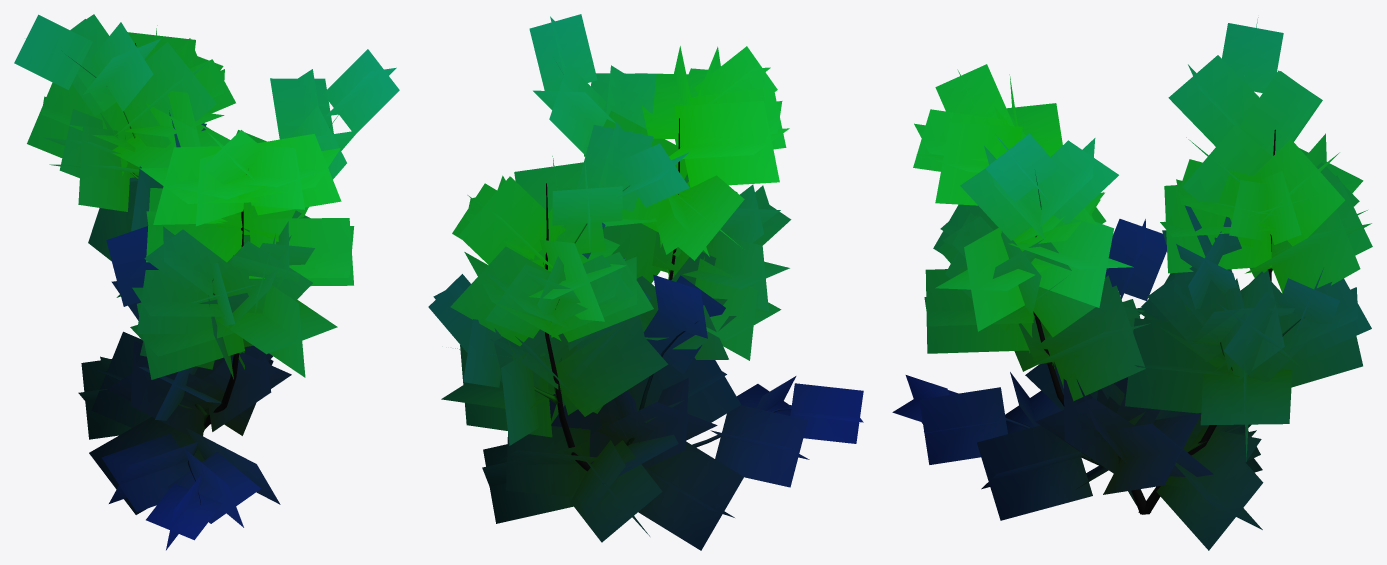
Rendered from Bush7.fbx.
3 renders of one model, left to right at view 1: azimuth 30°, elevation 25°; view 2: azimuth 150°, elevation 25°; view 3: azimuth 270°, elevation 25°, orthographic. The views are drawn at different scales.
Visible parts, largest first — view 1: Tree_1, Tree_0; view 2: Tree_1, Tree_0; view 3: Tree_1, Tree_0.
Boxes of the visible parts, x1,y1,x2,y2 form: Tree_1: [14, 14, 399, 550]; Tree_0: [68, 43, 338, 505]; Tree_1: [428, 14, 863, 550]; Tree_0: [534, 62, 791, 471]; Tree_1: [892, 17, 1372, 550]; Tree_0: [1005, 61, 1304, 514].
Bounding box in the file's own units: 272 × 402 × 371.
